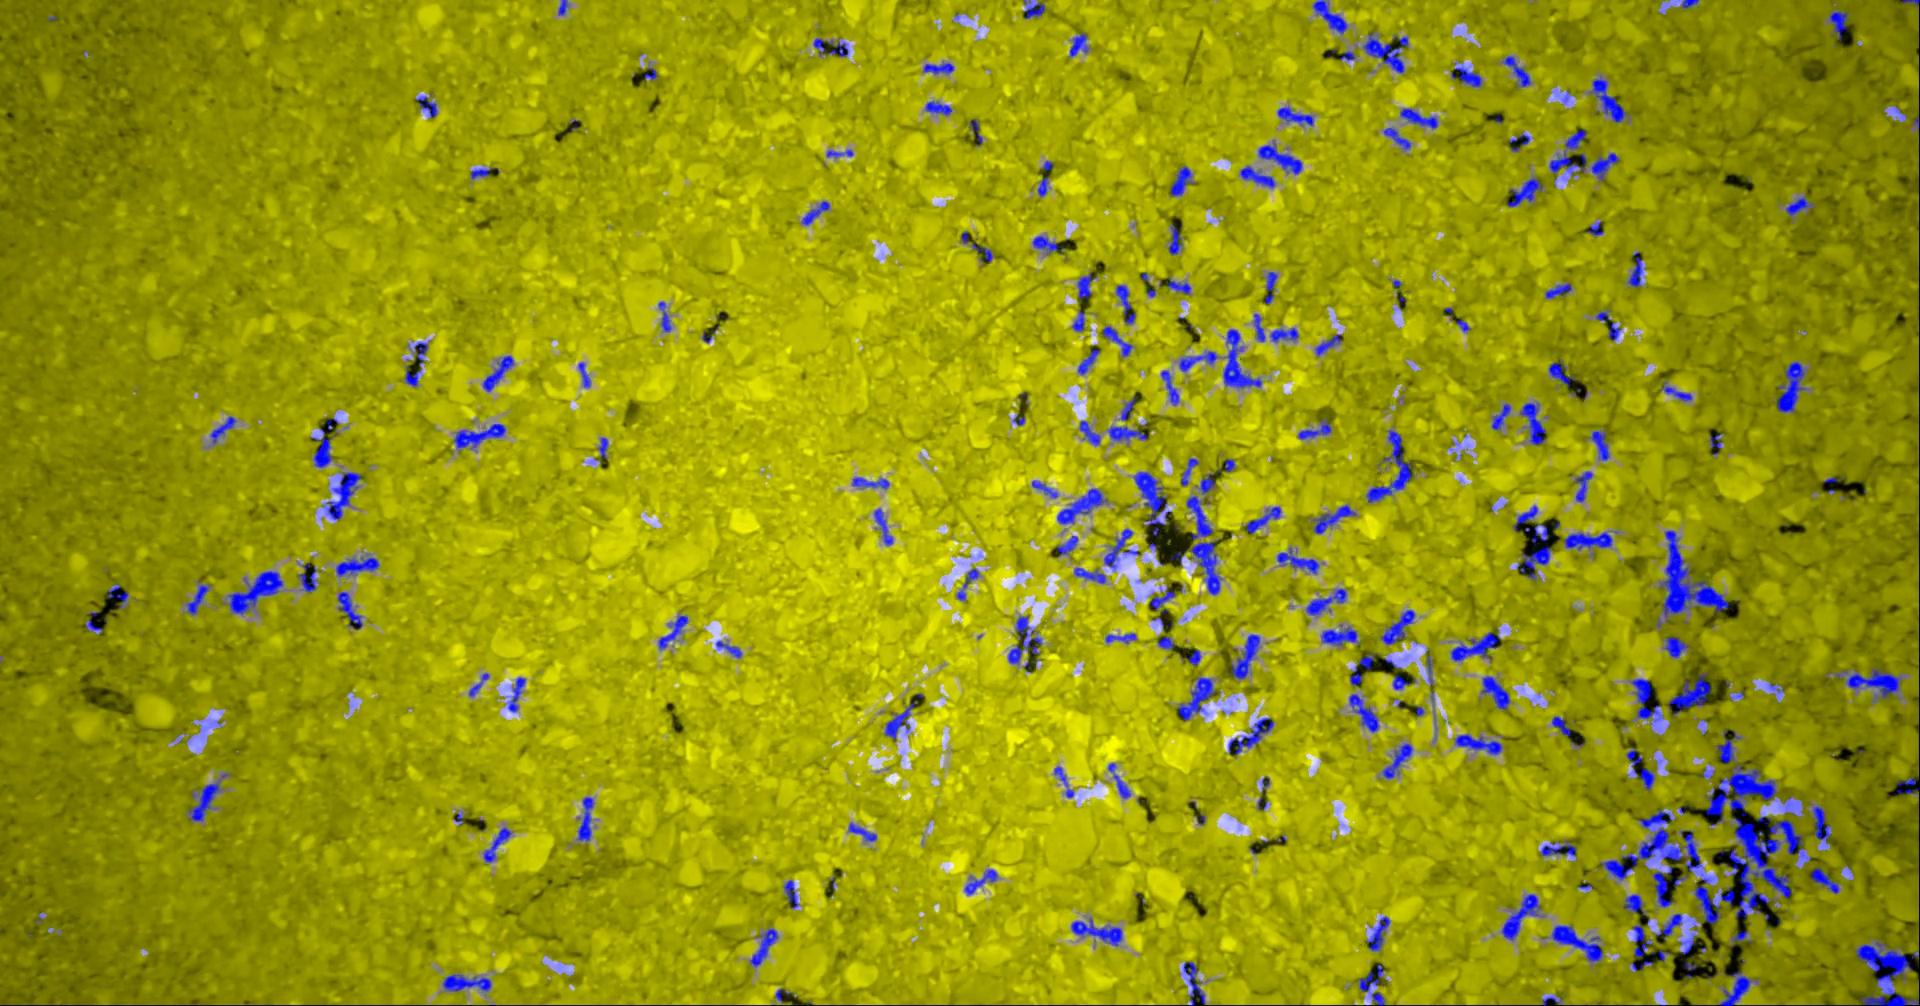ant: (1368, 429, 1415, 502), (229, 570, 284, 614), (1224, 329, 1263, 387), (1135, 471, 1170, 535), (323, 473, 363, 520), (1553, 925, 1604, 962), (1364, 32, 1410, 72), (1187, 541, 1222, 594), (1058, 488, 1109, 523), (1670, 672, 1712, 714), (1230, 716, 1275, 754), (1503, 894, 1542, 939), (1178, 677, 1217, 720), (1591, 76, 1627, 122), (1848, 668, 1902, 697), (1010, 615, 1043, 663), (1778, 361, 1808, 412), (1451, 631, 1502, 661), (1260, 142, 1304, 174), (1105, 528, 1140, 568), (1073, 918, 1123, 945), (1770, 819, 1806, 856), (1632, 678, 1665, 718), (1232, 634, 1261, 678), (1697, 873, 1722, 923), (455, 423, 507, 447), (886, 700, 918, 739), (1316, 504, 1357, 533), (1382, 608, 1416, 644), (190, 781, 221, 821), (1517, 545, 1552, 579), (484, 354, 516, 391), (1314, 0, 1349, 33), (1719, 970, 1752, 1005), (1628, 749, 1656, 789), (1523, 401, 1548, 445), (1189, 495, 1214, 539), (1277, 547, 1321, 573), (1308, 588, 1349, 615), (1384, 743, 1415, 779), (1351, 694, 1380, 730), (750, 929, 778, 967), (1509, 177, 1544, 206), (406, 342, 429, 386), (1247, 506, 1283, 533), (485, 827, 513, 862), (1185, 962, 1208, 1005), (339, 591, 364, 629), (660, 615, 690, 648), (1483, 674, 1511, 709), (1457, 734, 1503, 754), (312, 427, 335, 467), (1103, 326, 1134, 356), (1550, 152, 1589, 175), (1505, 55, 1531, 86), (966, 869, 999, 894), (1655, 866, 1675, 907), (337, 556, 380, 575), (1564, 532, 1614, 549), (444, 974, 493, 991), (1368, 916, 1390, 950), (1592, 152, 1620, 180), (1181, 351, 1219, 371), (1241, 165, 1276, 187), (188, 580, 211, 614), (1117, 285, 1137, 324), (1402, 108, 1439, 128), (1550, 359, 1577, 387), (579, 796, 596, 841), (957, 568, 980, 600), (803, 199, 830, 225), (1812, 868, 1840, 893), (1360, 963, 1385, 991), (1597, 311, 1622, 340), (1322, 626, 1359, 645), (212, 417, 237, 443), (875, 508, 894, 544), (1657, 913, 1684, 939), (1299, 419, 1332, 439), (1279, 107, 1316, 124), (1815, 807, 1832, 843), (1634, 925, 1655, 956), (1171, 166, 1192, 196), (1055, 766, 1076, 796), (815, 38, 850, 56), (1162, 370, 1180, 404), (509, 677, 527, 711), (1451, 67, 1483, 86), (1515, 506, 1539, 530), (298, 561, 317, 592), (1385, 127, 1412, 149), (1034, 235, 1065, 253), (1542, 840, 1578, 855), (1592, 431, 1611, 460), (1110, 426, 1149, 439), (1079, 348, 1101, 373), (1150, 587, 1176, 608), (1629, 251, 1644, 287), (1317, 334, 1343, 354), (1662, 382, 1693, 400), (1830, 11, 1849, 39), (850, 822, 877, 841), (1076, 567, 1107, 583), (109, 583, 130, 608), (1493, 403, 1512, 429), (1787, 197, 1815, 215), (1057, 535, 1079, 556), (1081, 420, 1101, 445), (1526, 523, 1550, 544), (1666, 636, 1690, 657), (1577, 471, 1594, 500), (1182, 459, 1200, 485), (417, 97, 439, 117), (470, 673, 490, 696), (1265, 271, 1279, 304), (785, 879, 801, 907), (1070, 32, 1090, 56), (1271, 326, 1300, 342), (1032, 480, 1059, 497), (1625, 894, 1647, 915), (1566, 130, 1589, 149), (1170, 224, 1183, 254), (1545, 283, 1573, 298), (1079, 273, 1096, 298), (717, 640, 743, 657), (973, 243, 994, 262), (1718, 739, 1735, 763), (1115, 774, 1131, 798), (660, 301, 673, 332), (1025, 0, 1046, 18), (853, 478, 890, 488), (1553, 716, 1572, 735), (1898, 777, 1920, 794), (1123, 395, 1137, 420), (1170, 278, 1192, 293), (927, 102, 952, 114), (971, 119, 984, 145), (472, 166, 500, 178), (1255, 312, 1266, 340), (924, 62, 955, 72), (1201, 473, 1217, 493), (1107, 633, 1137, 643), (1360, 652, 1377, 669), (580, 362, 592, 387), (1681, 935, 1697, 954), (1073, 310, 1086, 332), (1732, 930, 1749, 946), (1722, 887, 1736, 904), (1510, 133, 1531, 145), (1351, 666, 1364, 685), (828, 149, 855, 158), (1589, 221, 1605, 235), (1189, 649, 1203, 666), (1394, 674, 1411, 688), (599, 437, 610, 459), (1039, 177, 1050, 196), (1710, 433, 1724, 448), (1159, 636, 1176, 649), (1686, 962, 1698, 978), (1429, 649, 1434, 685), (1373, 992, 1385, 1005), (559, 0, 569, 15), (645, 67, 658, 79), (1683, 0, 1700, 8), (1225, 459, 1236, 471)
